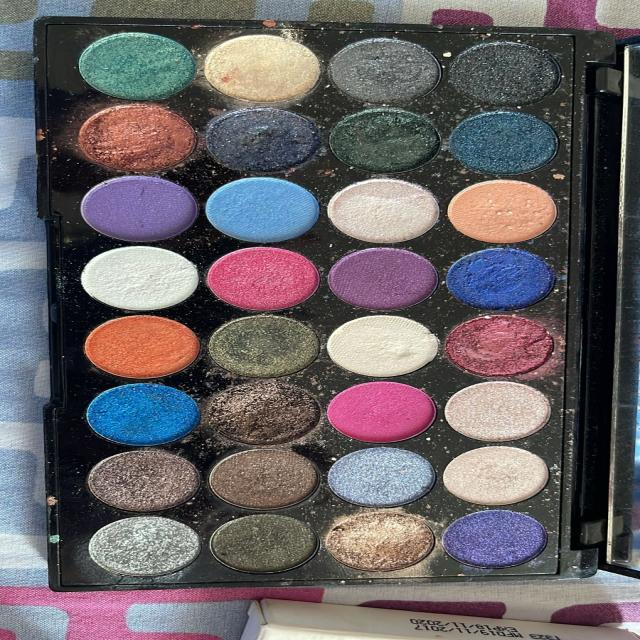eye shade: (78, 24, 558, 106), (73, 98, 566, 177), (81, 504, 564, 580), (76, 243, 564, 317), (76, 174, 562, 244), (81, 442, 562, 512), (76, 378, 565, 445), (76, 315, 562, 380)
